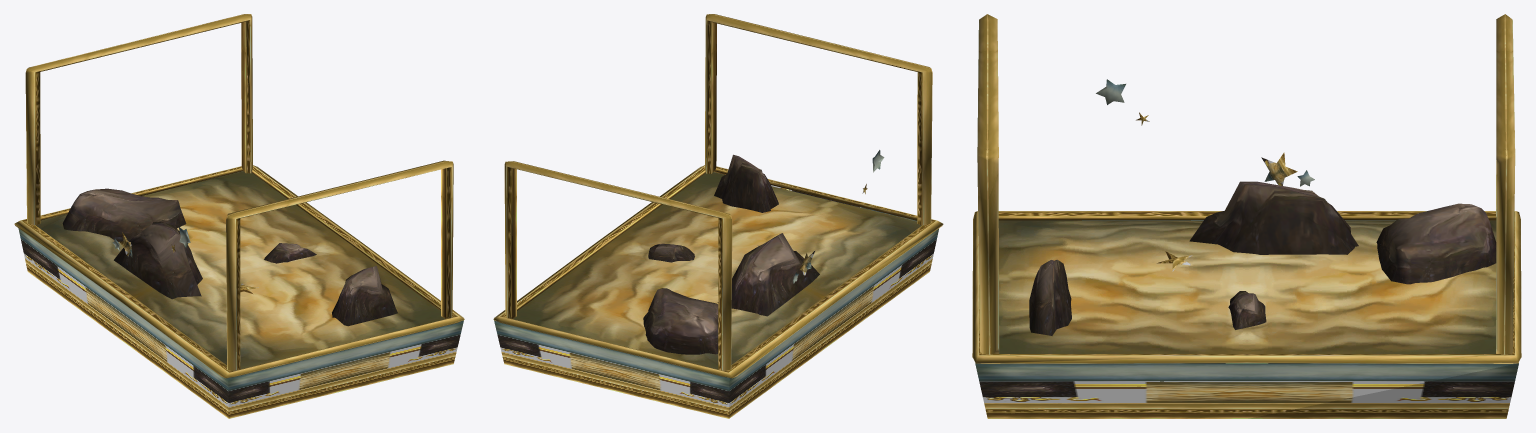
The model's file is pecera_base.obj.
3 renders of one model, left to right at view 1: azimuth 30°, elevation 25°; view 2: azimuth 150°, elevation 25°; view 3: azimuth 270°, elevation 25°, orthographic. The views are drawn at different scales.
Visible parts, largest first — view 1: pecera_base:Geoset4; view 2: pecera_base:Geoset4; view 3: pecera_base:Geoset4.
Part boxes in pixels (bbox=[...]): pecera_base:Geoset4: bbox=[14, 14, 464, 418]; pecera_base:Geoset4: bbox=[493, 14, 943, 418]; pecera_base:Geoset4: bbox=[972, 14, 1521, 418].
Bounding box in the file's own units: 3.01 × 2.43 × 4.58.
Materials: 3 (3 with a texture image).
